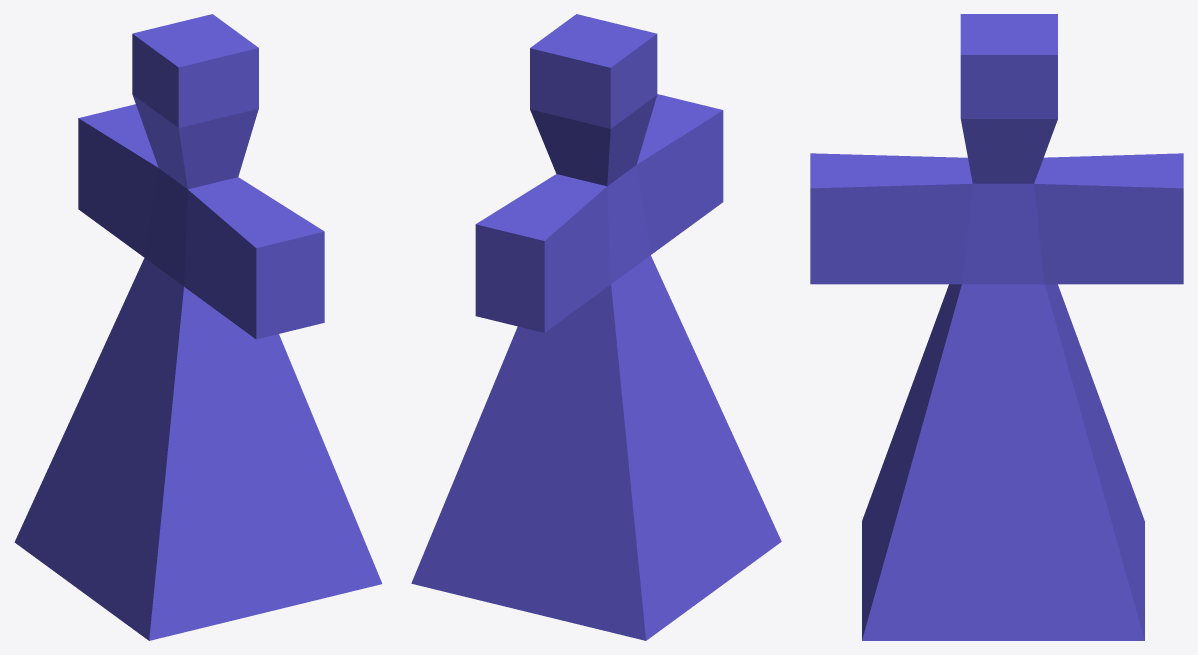
The model's file is simpleMesh-5.glb.
The picture shows the model from 3 angles, left to right: view 1: azimuth 30°, elevation 25°; view 2: azimuth 150°, elevation 25°; view 3: azimuth 270°, elevation 25°; orthographic projection. The views are drawn at different scales.
Parts seen in each view (by area): view 1: Cube; view 2: Cube; view 3: Cube.
Part boxes in pixels (bbox=[...]): Cube: bbox=[14, 14, 382, 640]; Cube: bbox=[411, 14, 781, 640]; Cube: bbox=[810, 14, 1183, 640].
Size of the model in its own units: 2 by 4.26 by 2.64.
